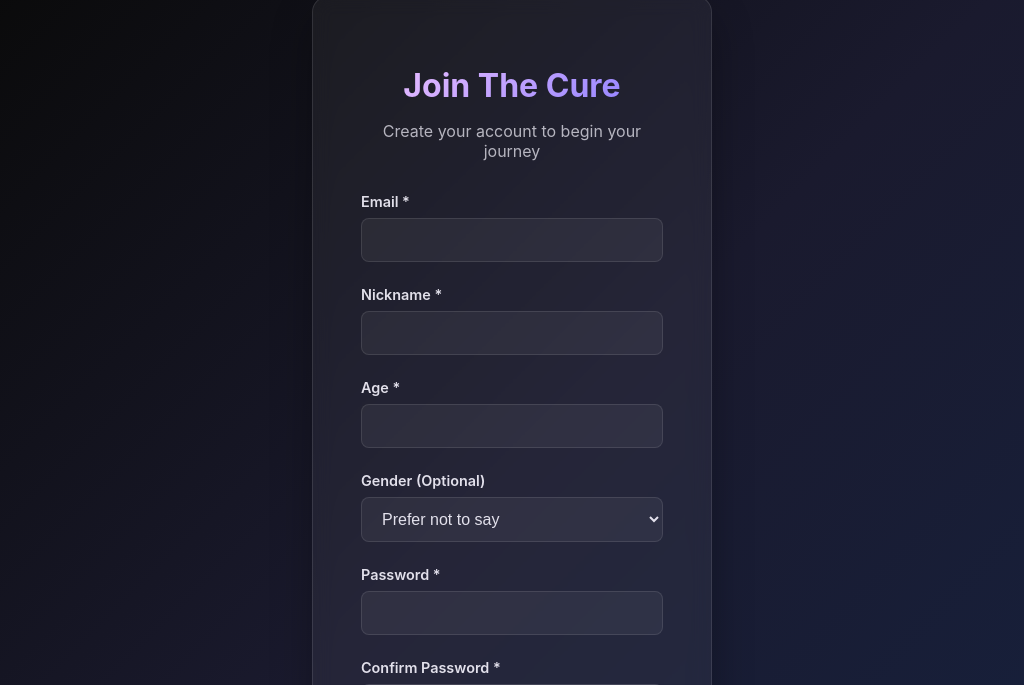
Test: RegisterPage › validates age is at least 13
Type "10" into the number field labelled "Age *" at (512,426), box 361,404 -> 663,448
(page scrolled)
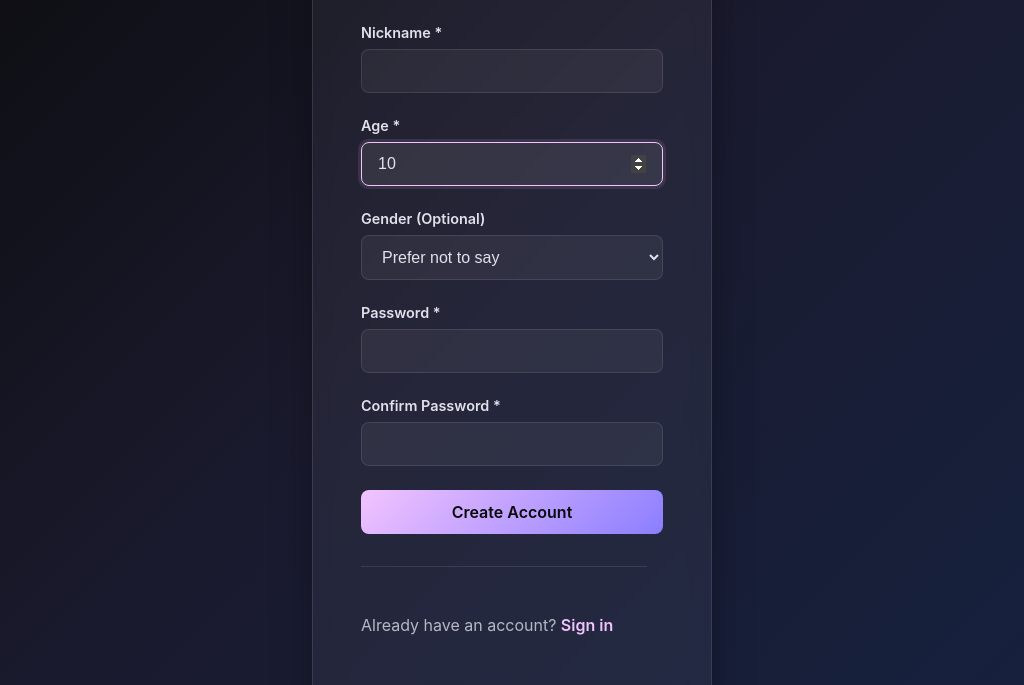
Click the button "Create Account" at (512,512), box 361,490 -> 663,534
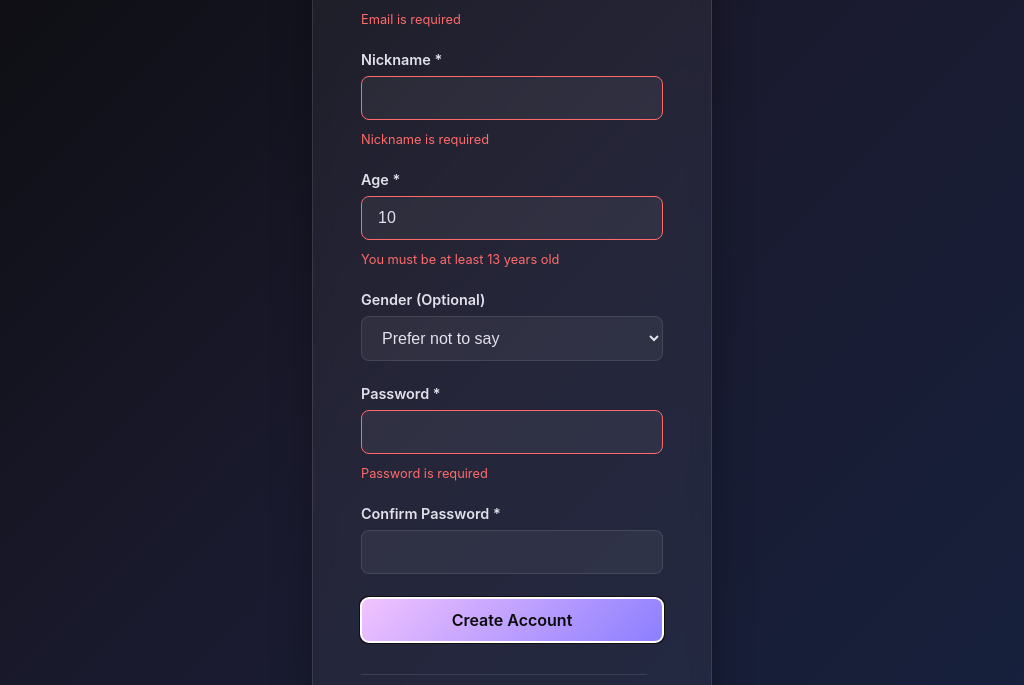
Expected: the text "You must be at least 13 years old" is shown, 361,252 -> 559,267
